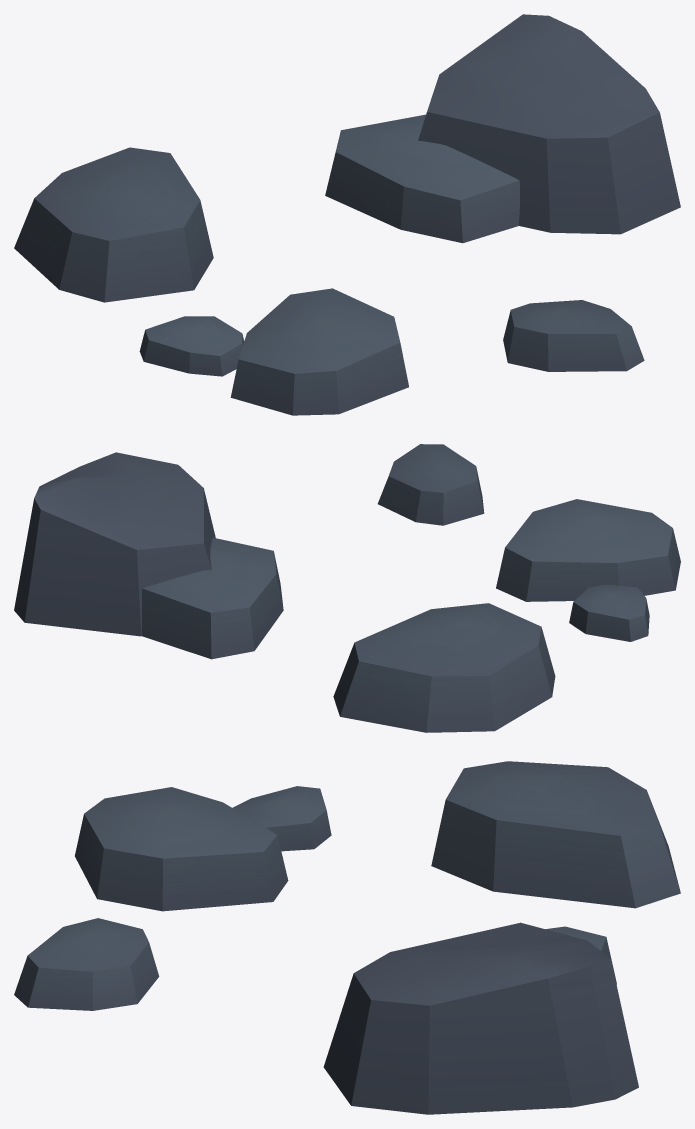
Rendered from Rocks_B_1.glb.
The picture shows the model from 3 angles, top to bottom: view 1: azimuth 30°, elevation 25°; view 2: azimuth 150°, elevation 25°; view 3: azimuth 270°, elevation 25°; orthographic projection. The views are drawn at different scales.
Visible parts, largest first — view 1: Rocks_B_1; view 2: Rocks_B_1; view 3: Rocks_B_1.
Boxes of the visible parts, bbox=[...] form: Rocks_B_1: bbox=[14, 14, 680, 415]; Rocks_B_1: bbox=[14, 444, 680, 732]; Rocks_B_1: bbox=[14, 761, 680, 1114].
Bounding box in the file's own units: 1.96 × 0.3834 × 1.79.
Materials: 1 (1 with a texture image).
